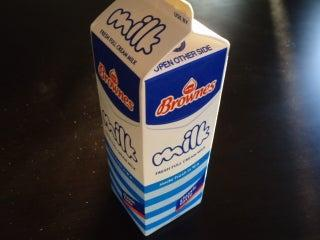cardboard: (90, 0, 227, 237)
